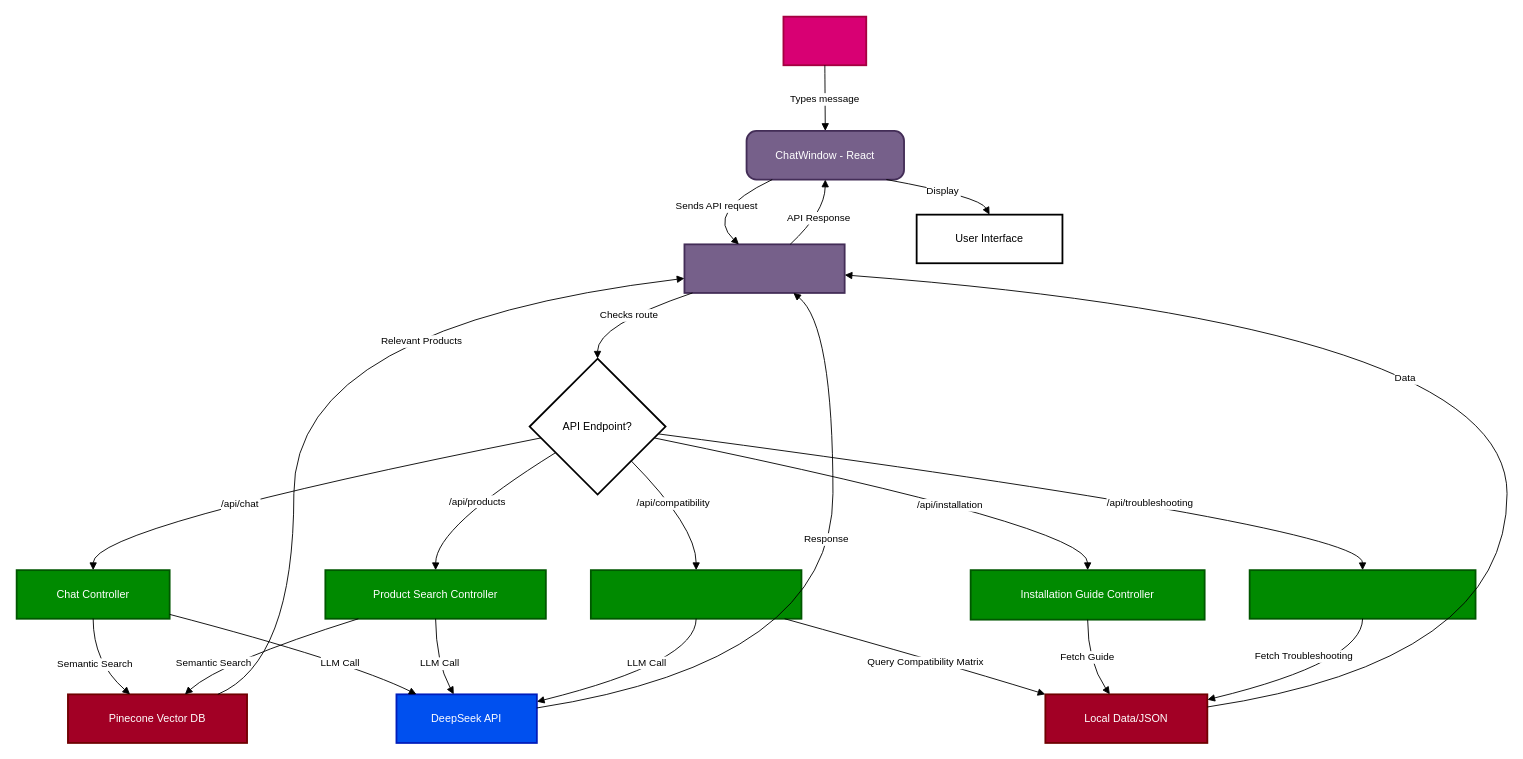
Image size: 1523x759. Some labels were removed from this diagram. The centre of each missing label's shape, as x and y in pixels:
Compatibility Controller: [696,594]
Express Backend: [764,268]
Troubleshooting Controller: [1362,594]
User: [824,40]
